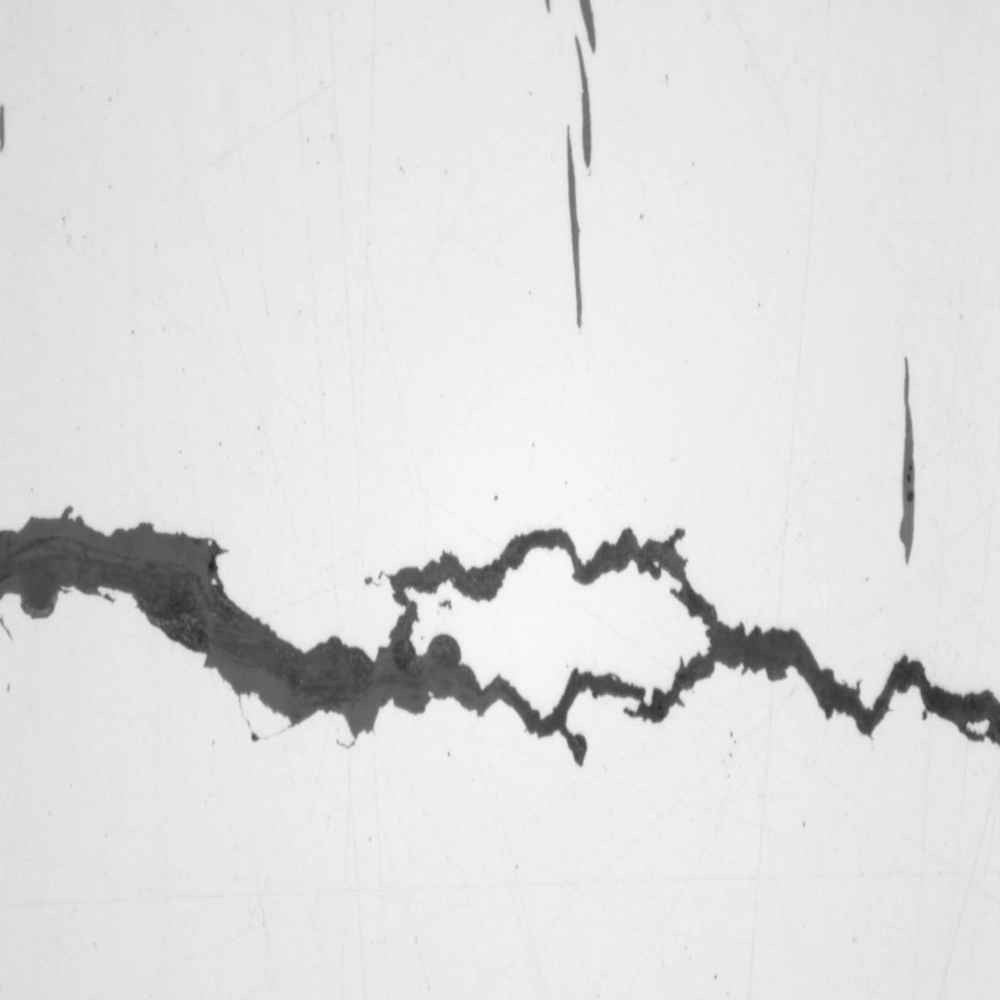crack: (10, 464, 1000, 827), (555, 1, 622, 354), (882, 343, 940, 567)
